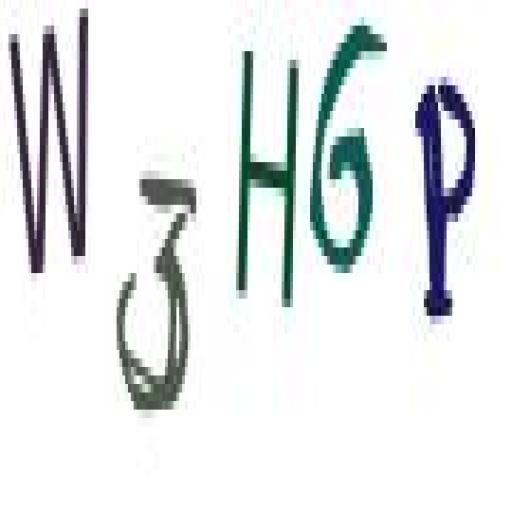3: (112, 133, 200, 428)
6: (310, 2, 396, 296)
H: (236, 32, 302, 333)
P: (412, 70, 480, 343)
W: (10, 10, 92, 282)
